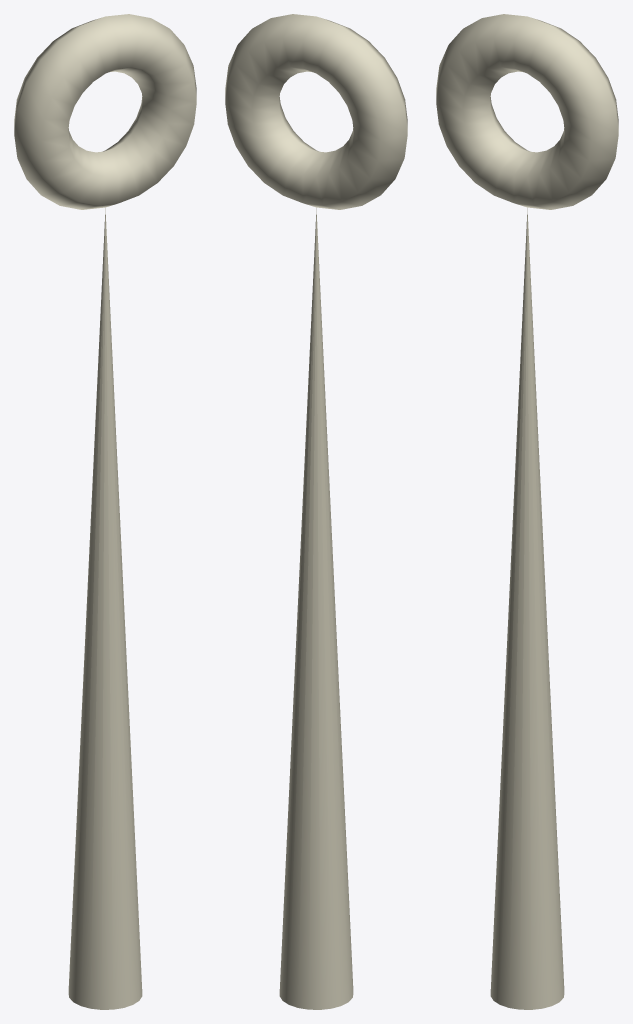
Rendered from primitive-crafting-workshop-bone-needle-44ef71e9__21538.glb.
3 views of the same model, side by side, from view 1: azimuth 30°, elevation 25°; view 2: azimuth 150°, elevation 25°; view 3: azimuth 330°, elevation 25° (orthographic).
Visible parts, largest first — view 1: bone-needle; view 2: bone-needle; view 3: bone-needle.
Boxes of the visible parts, left/top/right/bottom form: bone-needle: left=14, top=14, right=196, bottom=1009; bone-needle: left=225, top=14, right=407, bottom=1009; bone-needle: left=436, top=14, right=618, bottom=1009.
Size of the model in its own units: 0.034 by 0.174 by 0.012.
